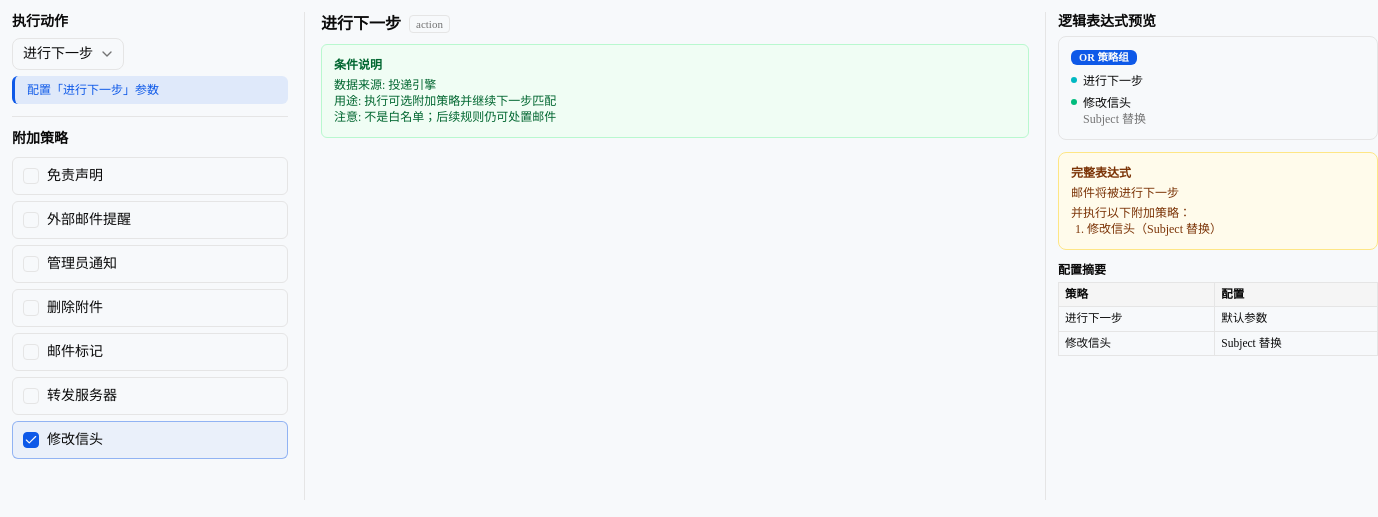
Test: ActionsTab 国际化格式化 › 修改邮件头提示把模板变量显示为带花括号的字面量
Click the button with test id "addon-row-modifyHeader": (75, 440) top-left (12, 421), bottom-right (288, 459)
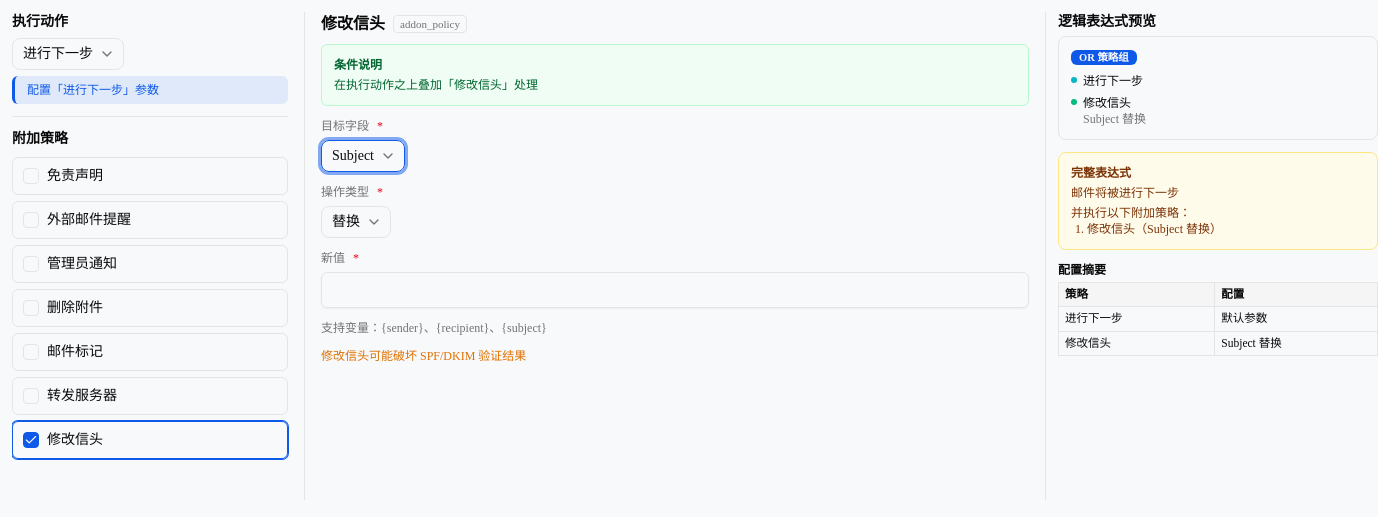
Check: the text "支持变量：{sender}、{recipient}、{subject}" is shown, box top-left (321, 321), bottom-right (547, 335)
